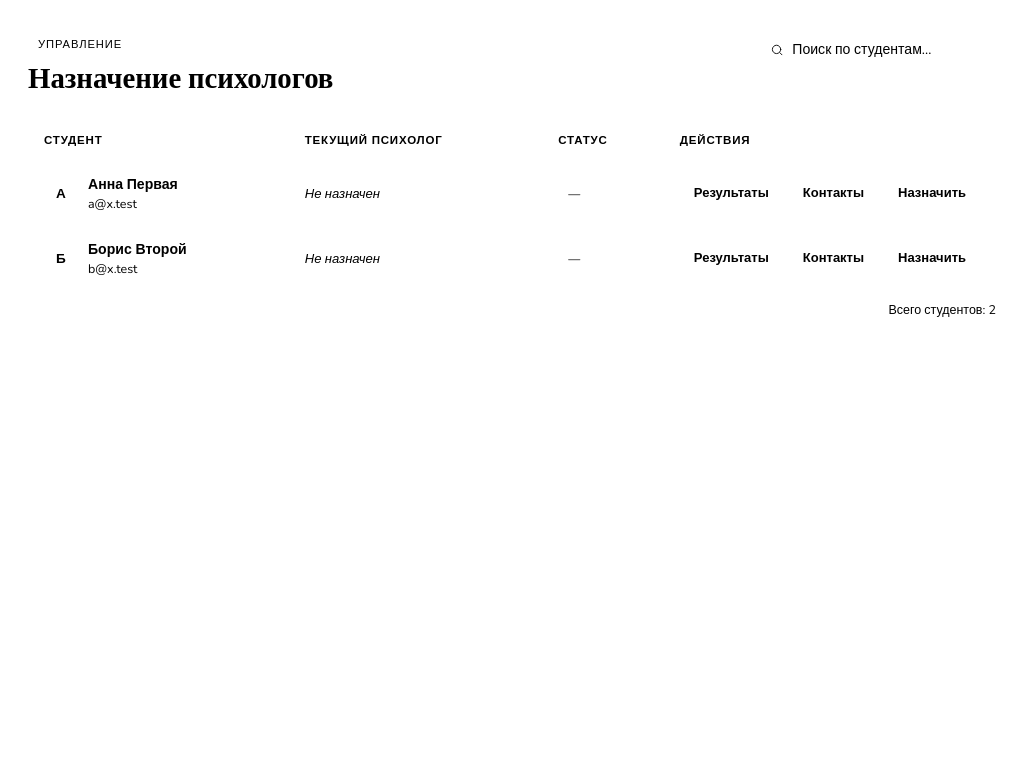
Test case: 503 при фиксации в журнале — понятное сообщение, данных нет
Click the button with aria-label "Контакты: Анна Первая" at (833, 194), box top-left (789, 177), bottom-right (878, 211)
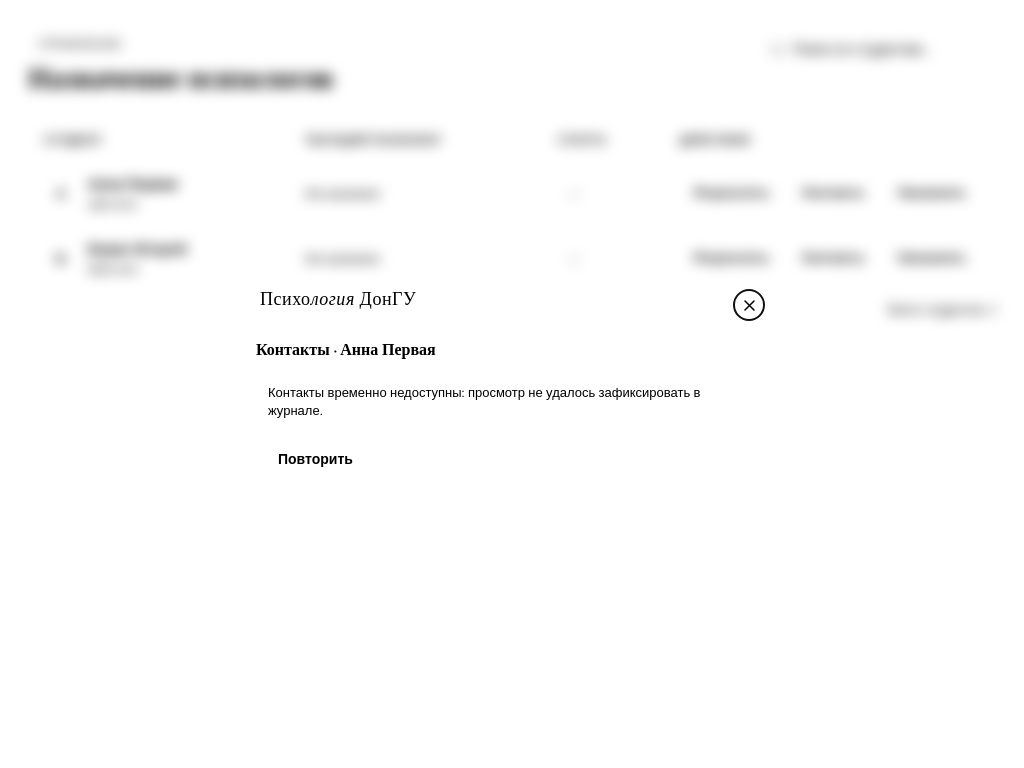
Now the message shows "зафиксировать в журнале", box top-left (268, 384), bottom-right (700, 420)
